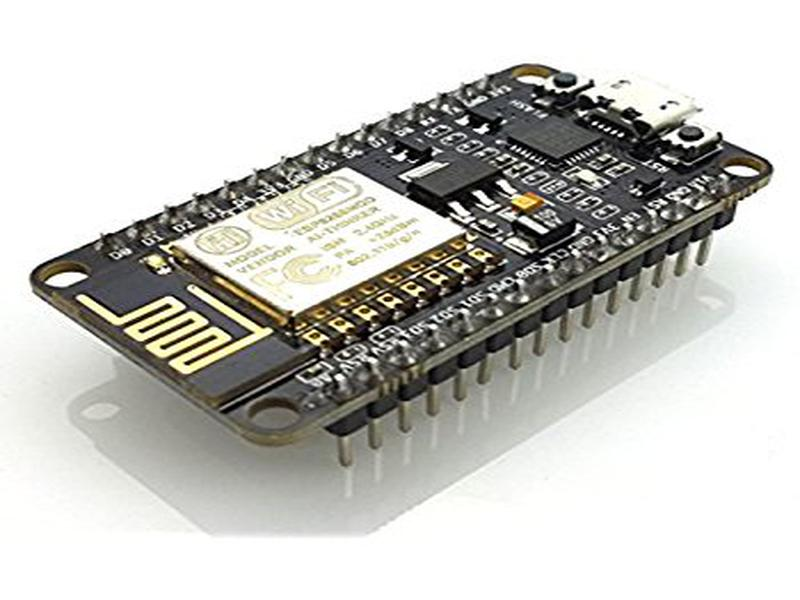ESP8266: (23, 56, 768, 469)
